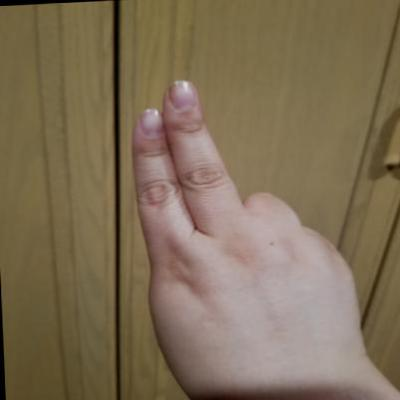hand: (122, 67, 381, 399)
